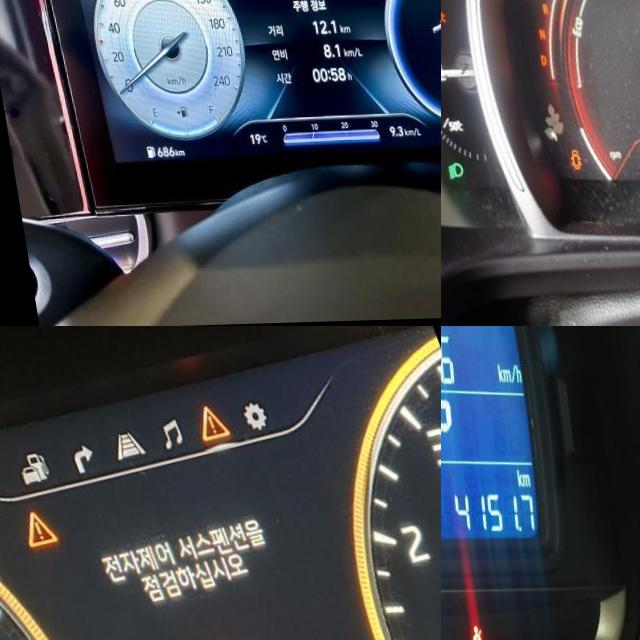Central Warning lamp: (6, 505, 49, 549), (183, 402, 227, 445)
Doors: (554, 149, 568, 171)
Low beam: (441, 161, 449, 179)
